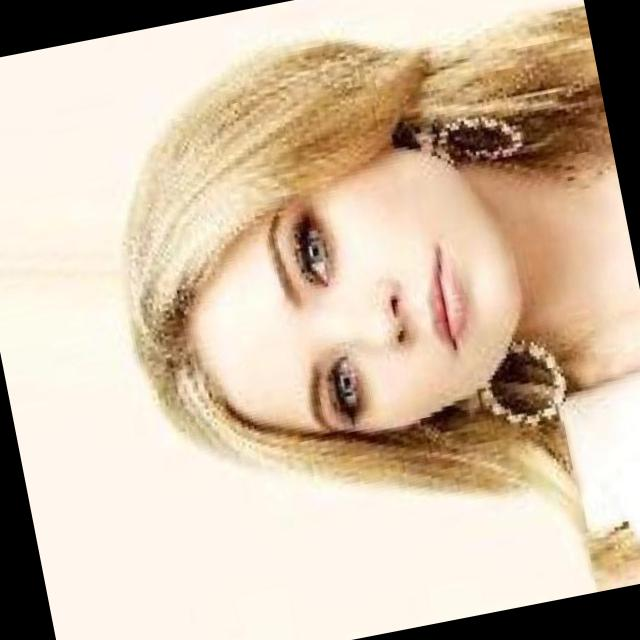bareface: (129, 73, 520, 463)
